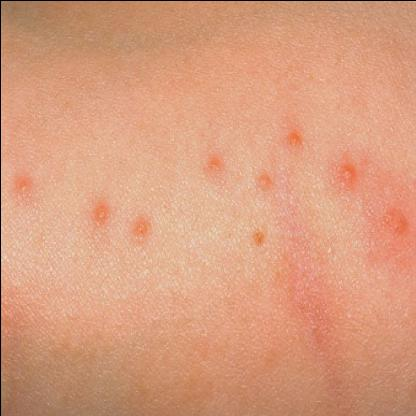Bed Bug: (326, 154, 360, 198), (377, 196, 409, 236), (200, 149, 224, 181), (250, 165, 274, 196), (10, 168, 31, 203), (278, 123, 304, 149), (128, 215, 151, 241), (90, 196, 110, 225), (248, 226, 269, 251)
